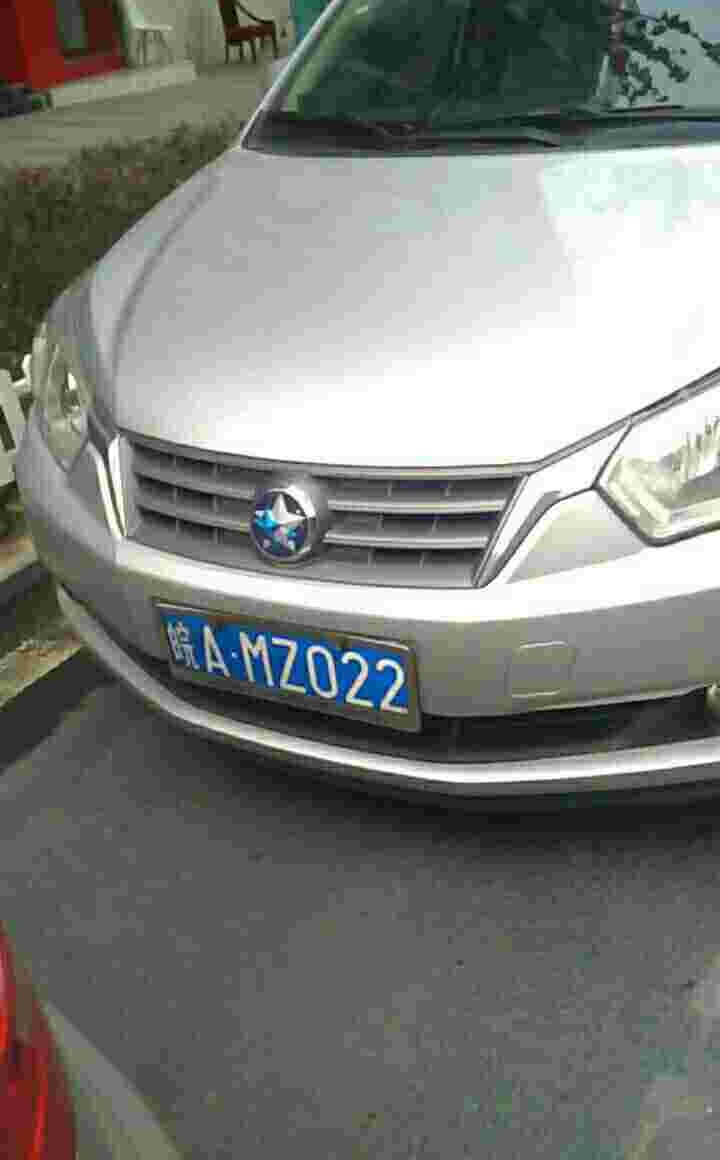license_plate: (168, 619, 411, 710)
